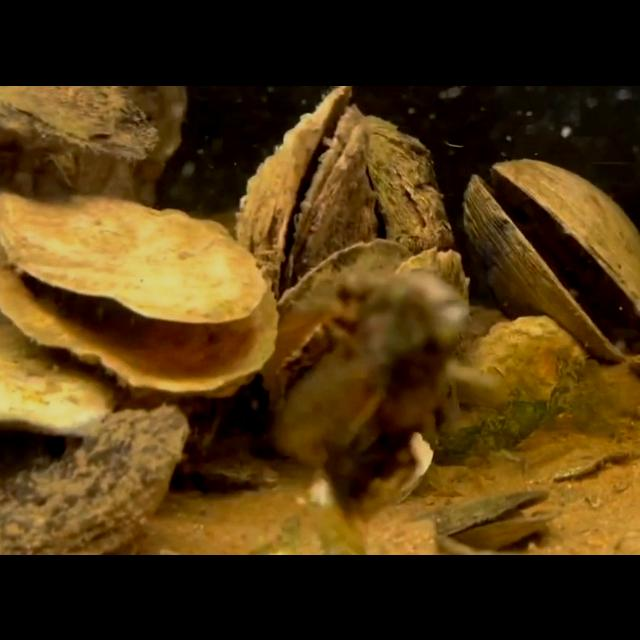Oyster-Closed: (0, 403, 190, 555), (430, 312, 588, 463), (1, 306, 118, 438), (360, 111, 454, 252), (0, 85, 160, 161)
Oyster-Open: (0, 190, 280, 393), (259, 237, 471, 416), (462, 157, 640, 365), (234, 85, 372, 295), (407, 486, 558, 554), (171, 436, 279, 496), (360, 427, 434, 507)
